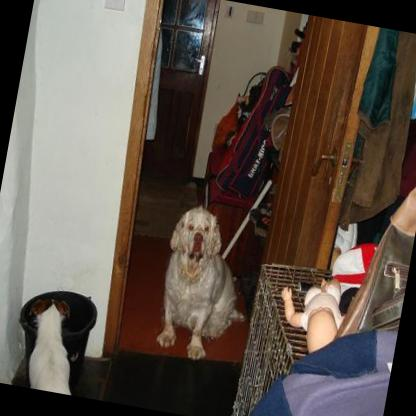clumber: (148, 200, 264, 367)
